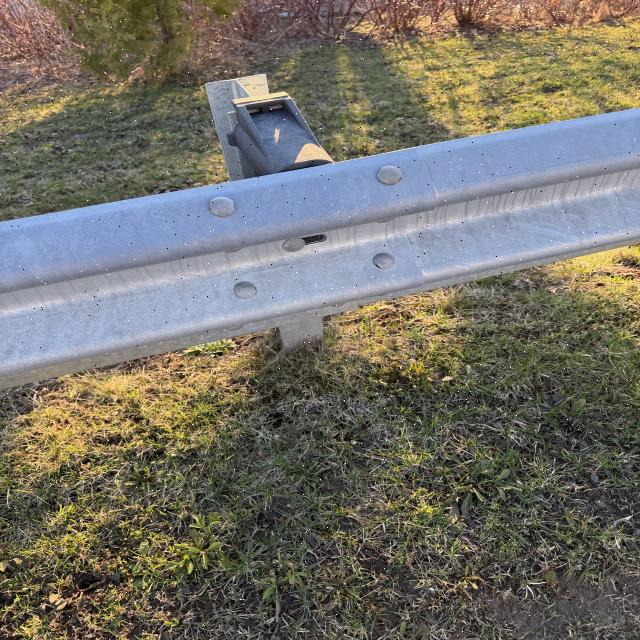Guard rail: (24, 106, 623, 362), (203, 78, 334, 175)
